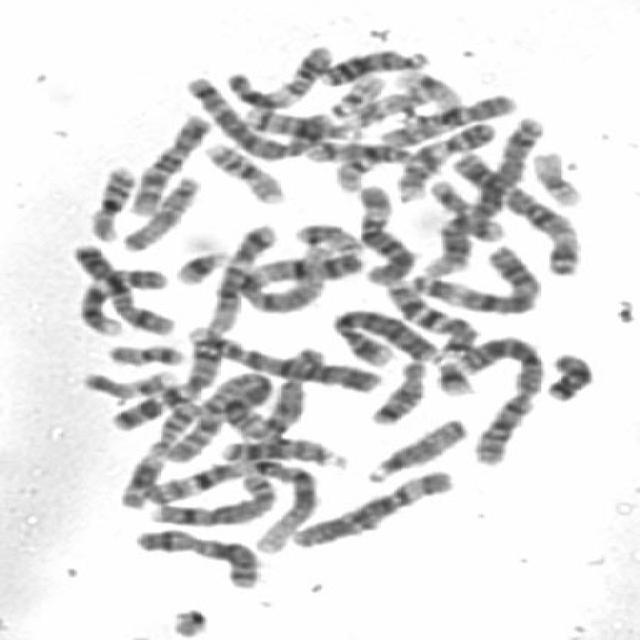A1: (135, 451, 323, 552), (230, 240, 368, 313)
A2: (449, 328, 549, 467), (158, 364, 278, 464)
A3: (443, 142, 586, 276), (405, 236, 546, 317)
B4: (177, 319, 388, 394), (324, 301, 444, 368)
B5: (177, 68, 332, 160), (420, 108, 514, 222)
C10: (123, 105, 215, 217), (374, 86, 521, 148)
C11: (112, 394, 206, 511), (220, 37, 340, 110)
C12: (143, 327, 235, 410), (419, 215, 506, 278)
C6: (285, 461, 460, 549), (349, 176, 422, 286)
C7: (200, 221, 282, 341), (378, 271, 484, 359)
C8: (244, 338, 330, 442), (143, 467, 283, 528)
C9: (389, 113, 500, 202), (71, 258, 174, 337)
D13: (214, 430, 352, 470), (314, 41, 434, 87)
D14: (237, 100, 369, 143), (300, 133, 420, 165)
D15: (360, 409, 474, 483), (116, 168, 207, 254)
E16: (197, 134, 291, 204), (83, 157, 142, 242)
E17: (340, 80, 437, 128), (76, 363, 182, 399)
E18: (365, 353, 432, 427), (543, 348, 595, 402)
F19: (525, 141, 589, 208), (386, 62, 468, 110)
F20: (289, 216, 369, 256), (102, 335, 189, 367)
G21: (169, 241, 234, 285), (428, 351, 482, 398)
G22: (322, 67, 391, 118), (328, 148, 383, 193)
X: (66, 236, 180, 337), (128, 520, 266, 590)
